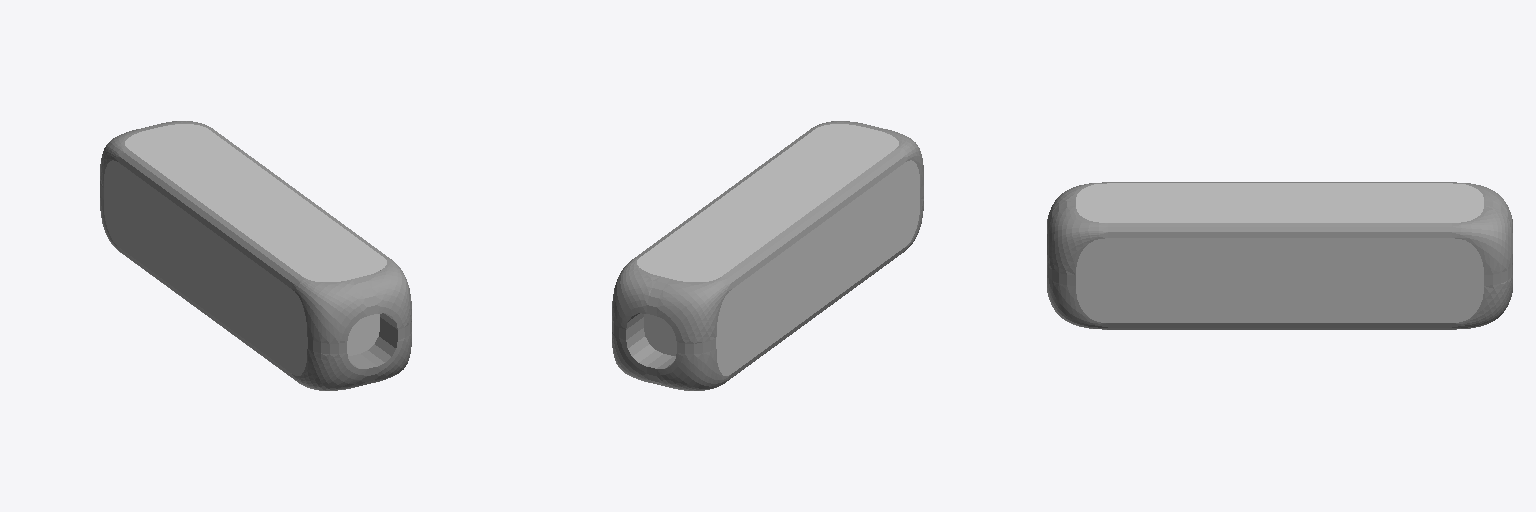
Rendered from thick-normal-short.obj.
3 views of the same model, side by side, from view 1: azimuth 30°, elevation 25°; view 2: azimuth 150°, elevation 25°; view 3: azimuth 270°, elevation 25° (orthographic).
Parts seen in each view (by area): view 1: thick-normal-short; view 2: thick-normal-short; view 3: thick-normal-short.
Boxes of the visible parts, box(x1,y1,x2,y2) form: thick-normal-short: box(100, 121, 411, 390); thick-normal-short: box(612, 121, 923, 390); thick-normal-short: box(1047, 182, 1512, 329).
Size of the model in its own units: 1 by 1 by 4.